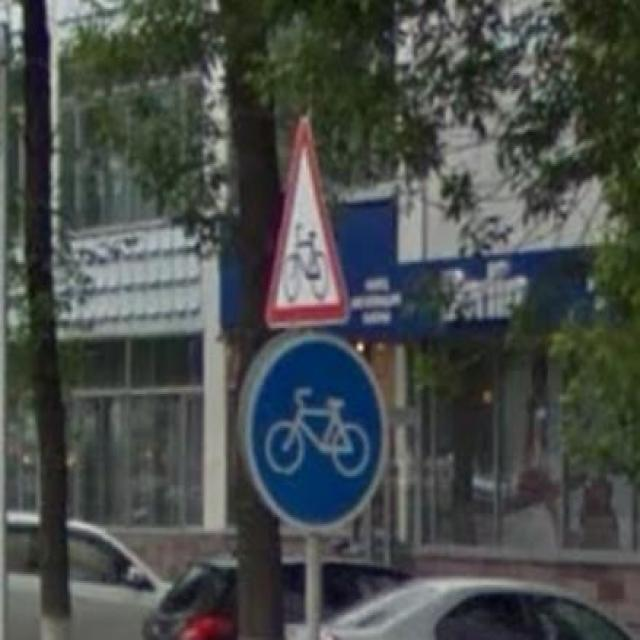traffic_sign: (245, 332, 391, 531), (266, 112, 354, 330)
